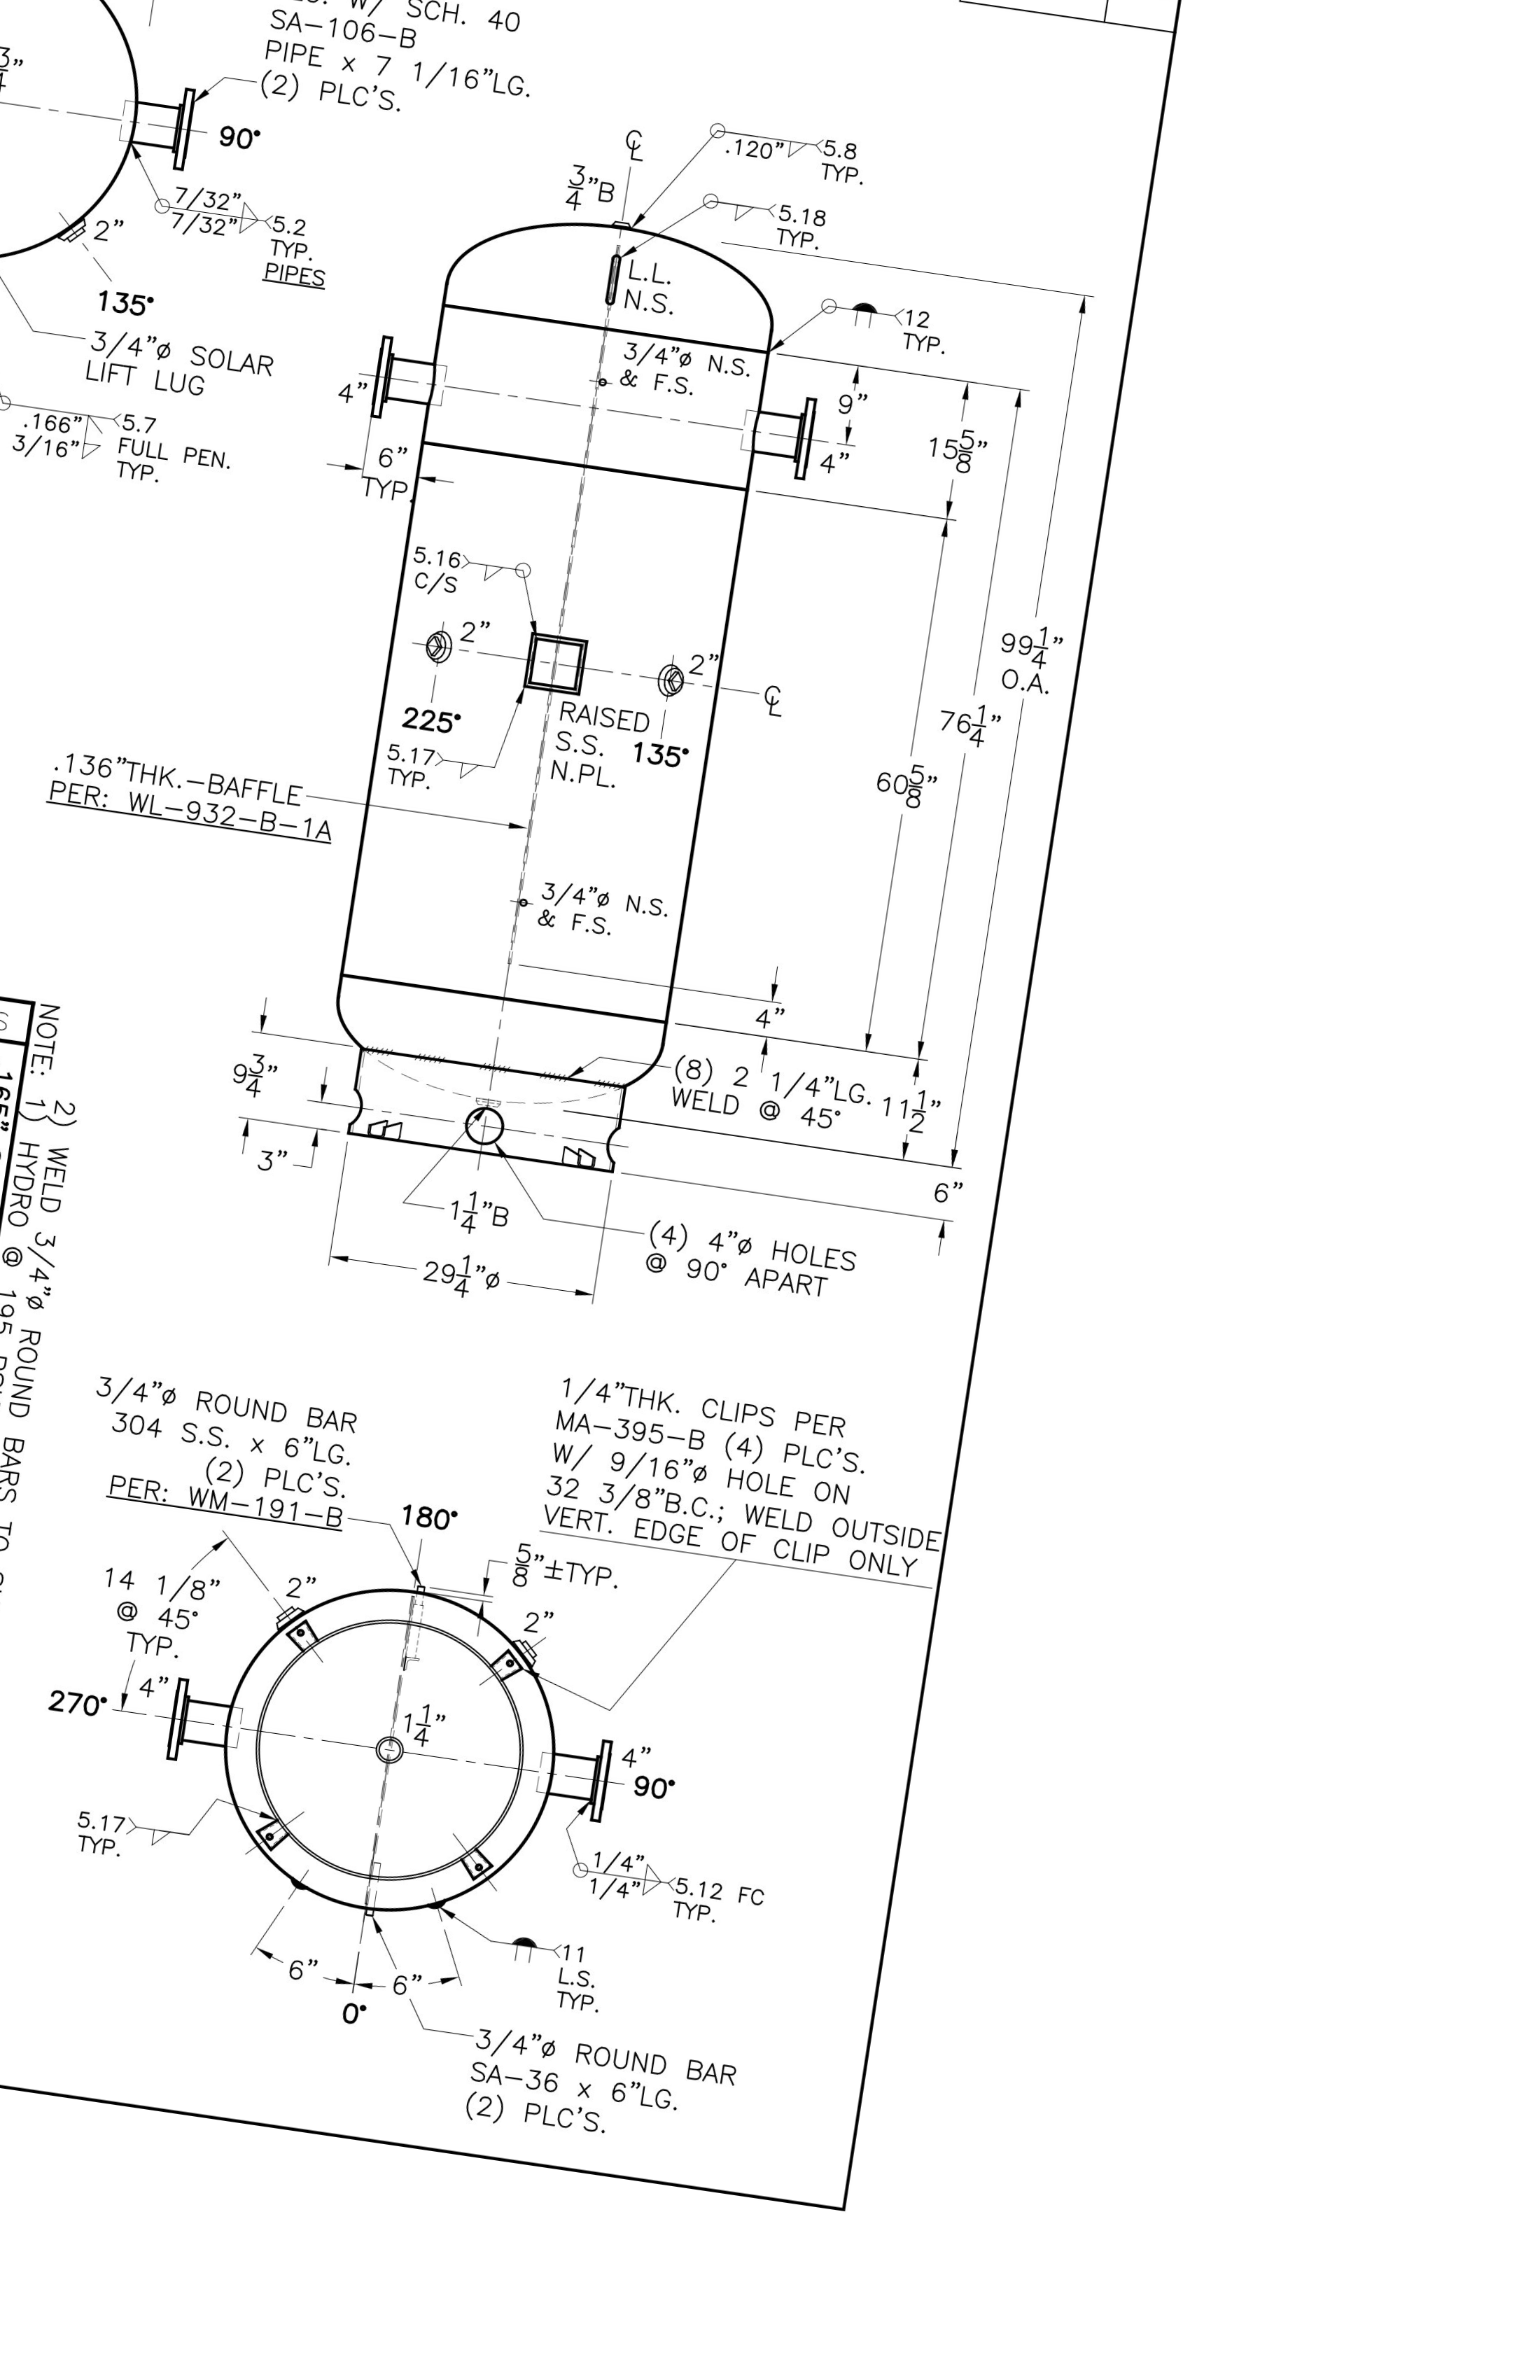Nozzle: (342, 300, 454, 449), (156, 1648, 272, 1792), (727, 369, 843, 505), (545, 1691, 630, 1854), (121, 56, 217, 180)
